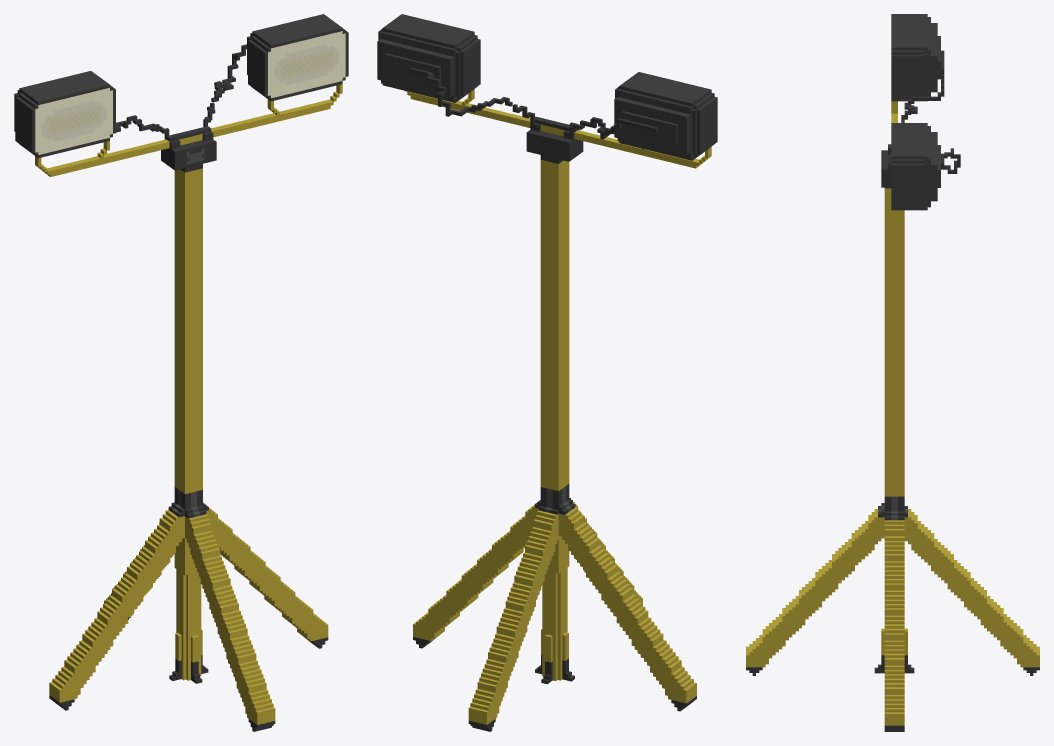
File: Spotlight.obj
3 renders of one model, left to right at view 1: azimuth 30°, elevation 25°; view 2: azimuth 150°, elevation 25°; view 3: azimuth 270°, elevation 25°, orthographic. The views are drawn at different scales.
Bounding box in the file's own units: 10.6 × 19.6 × 8.9.
Materials: 1 (1 with a texture image).
